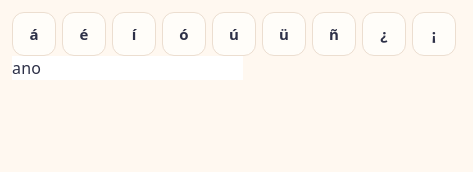
Test: 字元列 › 插在游標位置 —— 這是整個元件的重點
Click the button "ñ".
click(334, 34)  # box [312, 12, 356, 56]
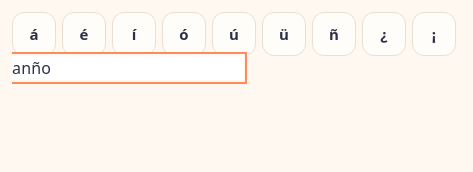
Expected: the field named "答案" holds "anño", [12, 56, 243, 80]
